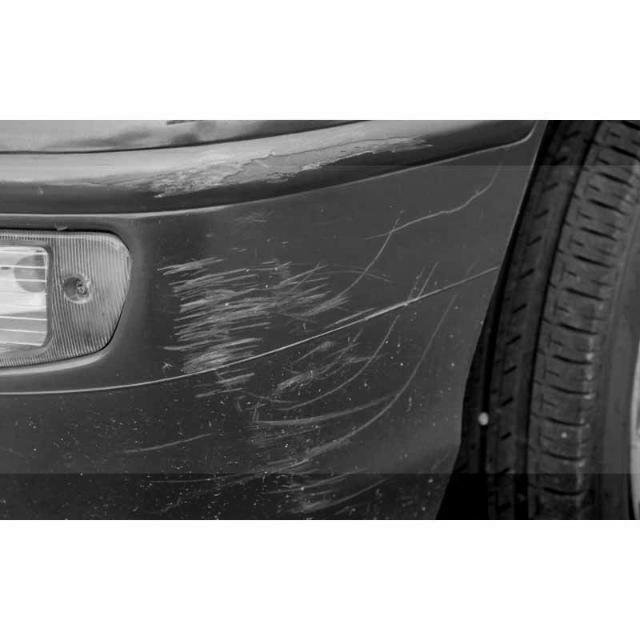front-bumper-dent: (1, 121, 584, 520)
